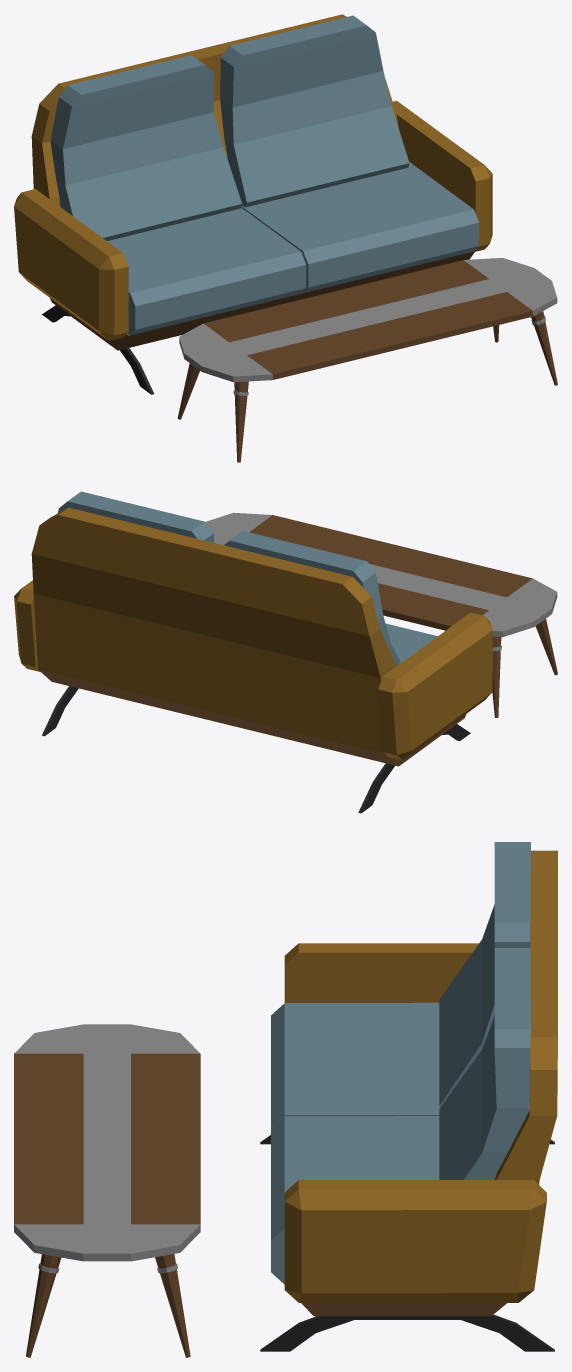
3 views of the same model, one above another, from view 1: azimuth 30°, elevation 25°; view 2: azimuth 150°, elevation 25°; view 3: azimuth 270°, elevation 25° (orthographic). The views are drawn at different scales.
Visible parts, largest first — view 1: Sofa1, Cube; view 2: Sofa1, Cube; view 3: Sofa1, Cube.
Boxes of the visible parts, <box> form: Sofa1: <box>14,14,492,394</box>; Cube: <box>177,258,557,462</box>; Sofa1: <box>14,491,492,813</box>; Cube: <box>205,512,557,717</box>; Sofa1: <box>260,842,557,1351</box>; Cube: <box>14,1024,200,1357</box>.
Size of the model in its own units: 4.38 by 2.52 by 3.9.
